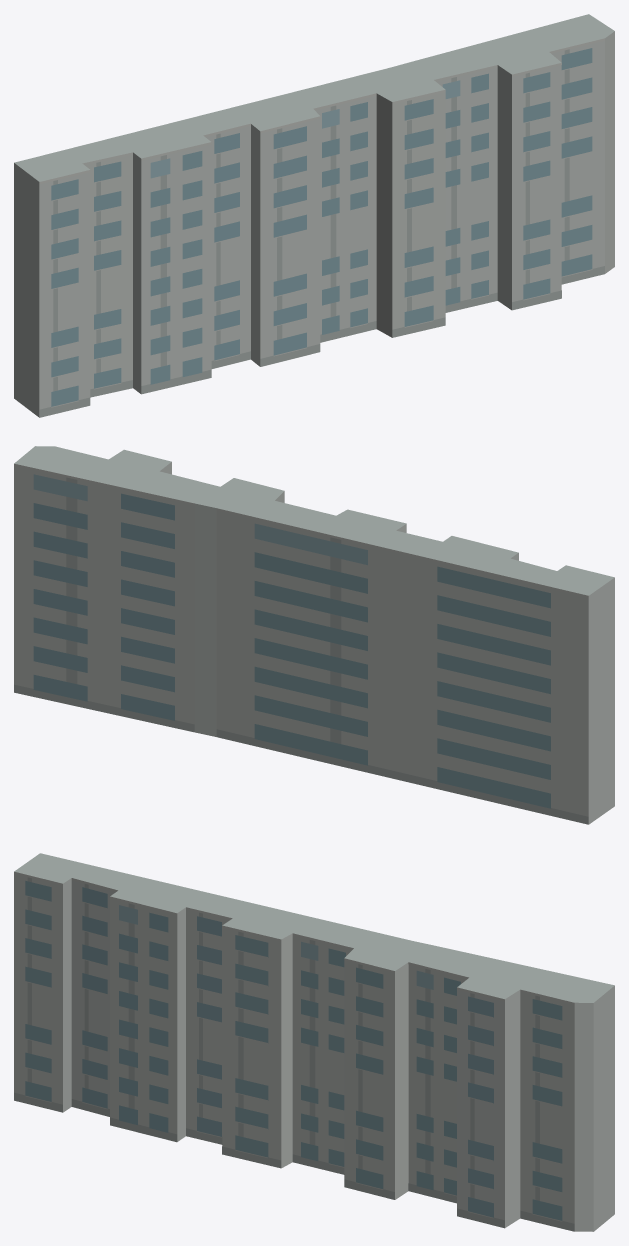
The model's file is survey-upis-32485293.glb.
The picture shows the model from 3 angles, top to bottom: view 1: azimuth 30°, elevation 25°; view 2: azimuth 150°, elevation 25°; view 3: azimuth 330°, elevation 25°; orthographic projection. The views are drawn at different scales.
Parts seen in each view (by area): view 1: survey-upis-32485293.tmp; view 2: survey-upis-32485293.tmp; view 3: survey-upis-32485293.tmp.
Part boxes in pixels (bbox=[...]): survey-upis-32485293.tmp: bbox=[14, 14, 614, 417]; survey-upis-32485293.tmp: bbox=[14, 446, 614, 824]; survey-upis-32485293.tmp: bbox=[14, 853, 614, 1231].
Size of the model in its own units: 63.49 by 24.4 by 8.09.
